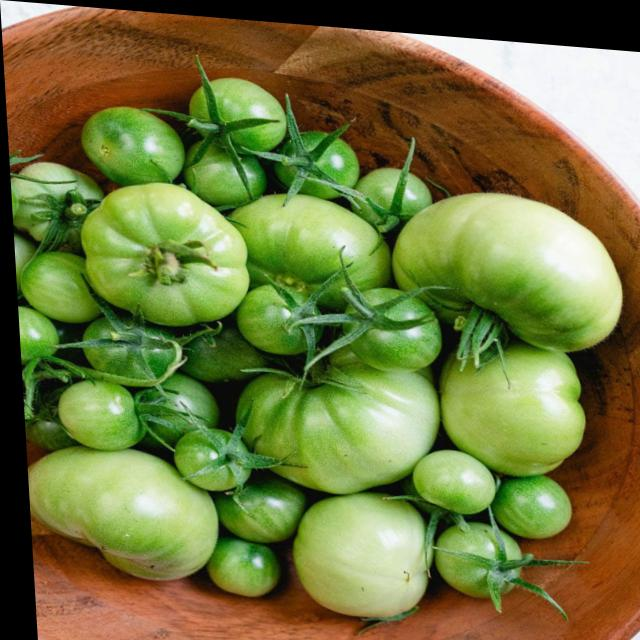yesil: (354, 157, 623, 352), (76, 169, 276, 353), (228, 354, 468, 494), (47, 461, 236, 575), (27, 364, 157, 469)
